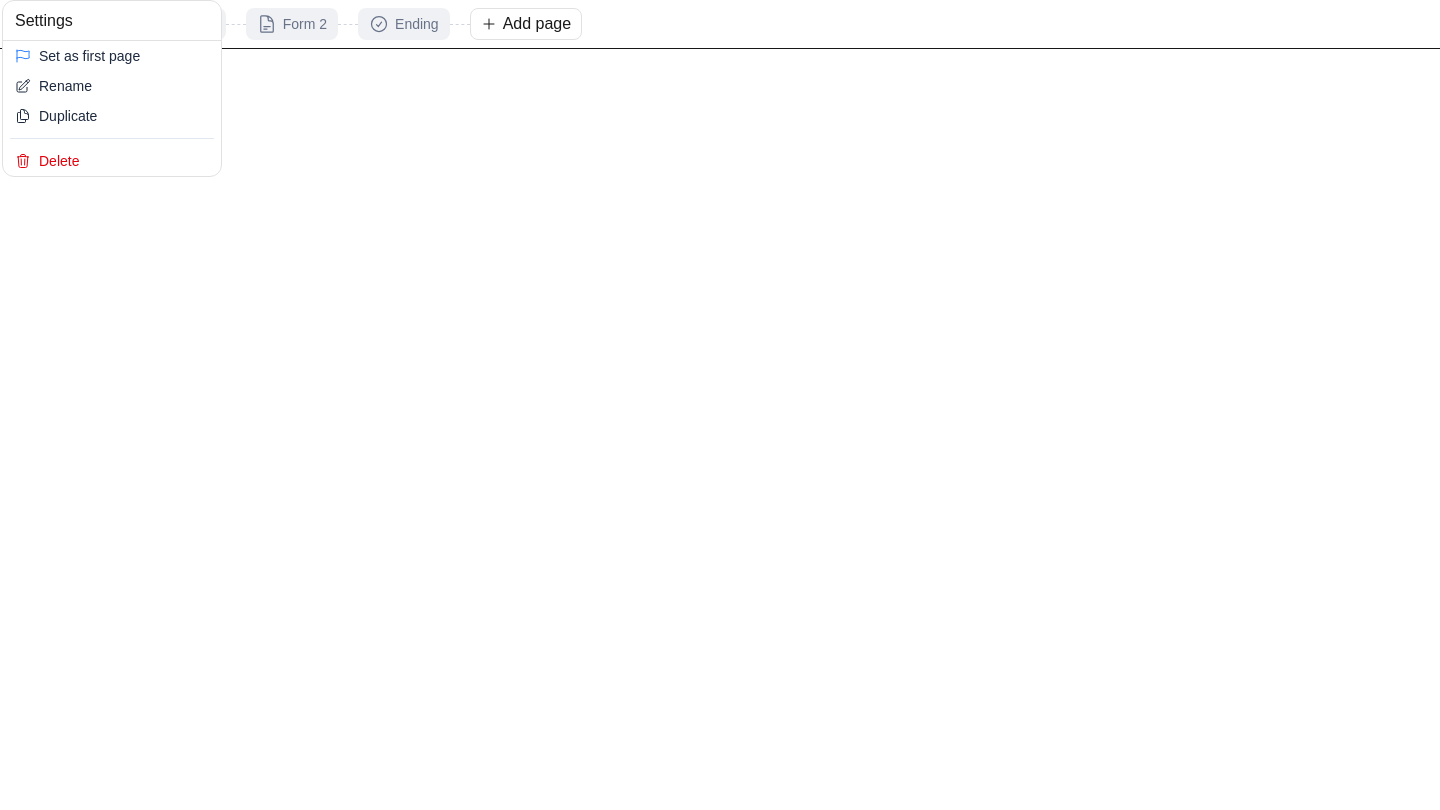
Test: PageStepsBar › should delete page step
Expected: the menu item "Duplicate" is shown, [15, 108, 97, 124]
Click the menu item "Delete". click: point(47, 161)
box: [15, 153, 80, 169]
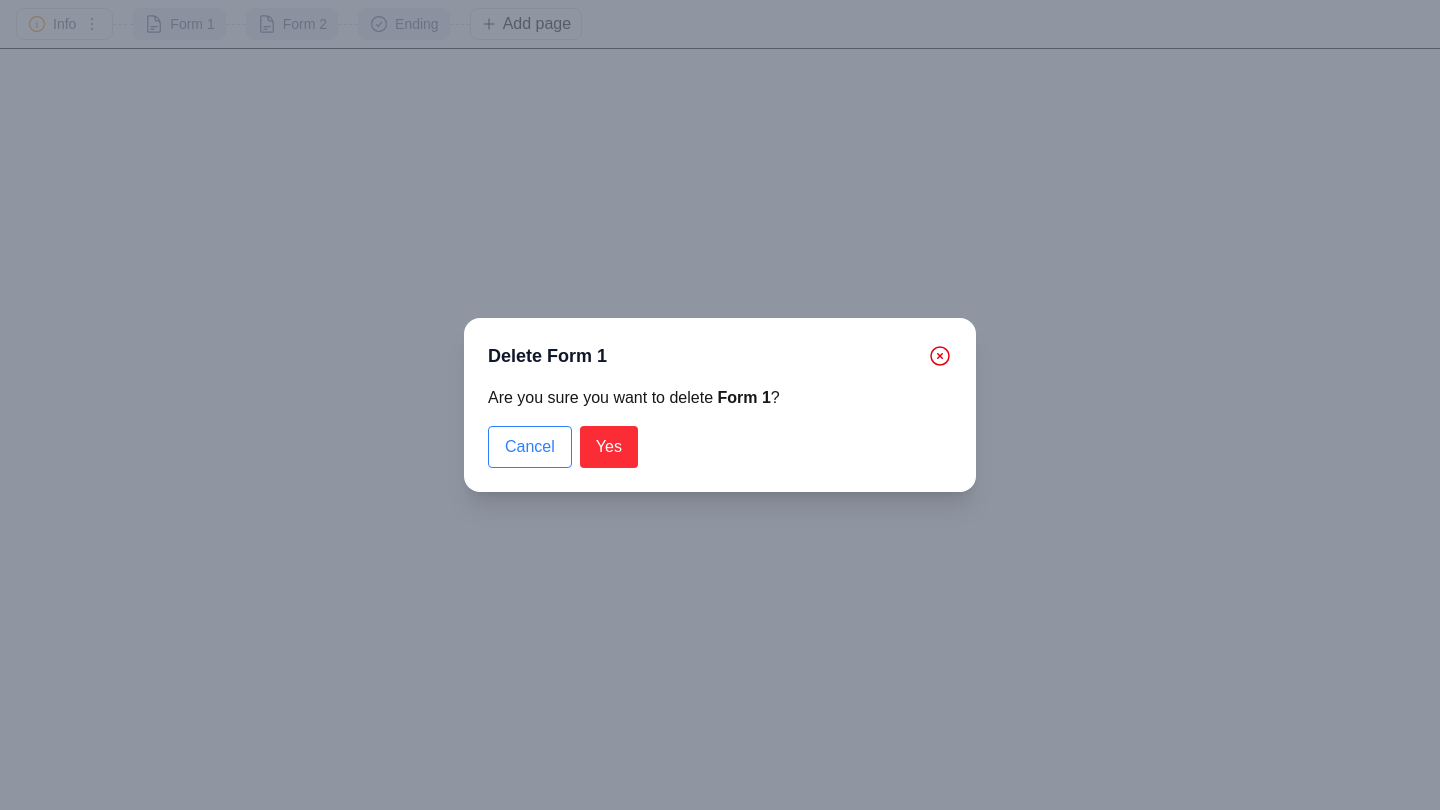
Click the button "Yes". click: point(609, 447)
box: [580, 426, 638, 468]
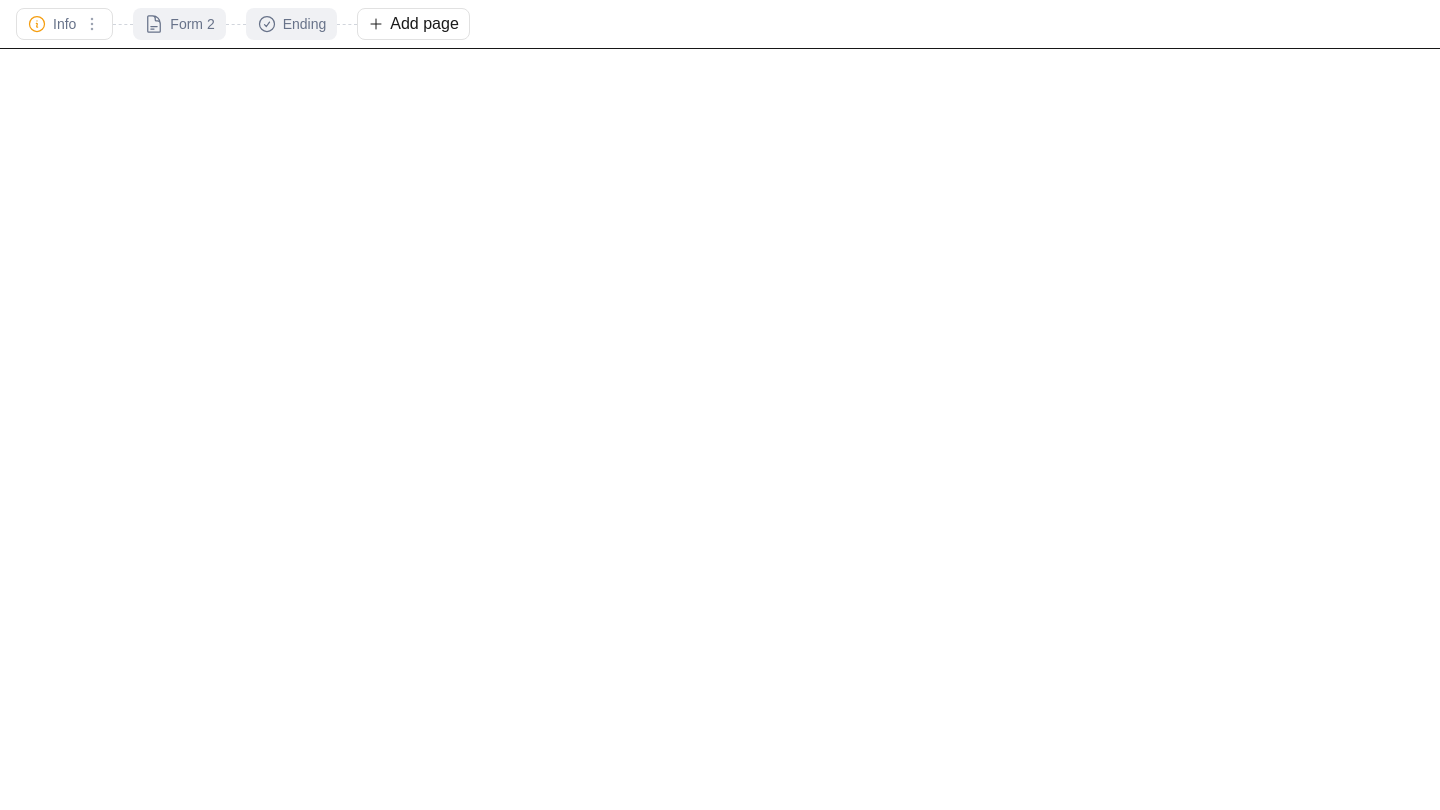
Expected: the button "Form 1" is gone
